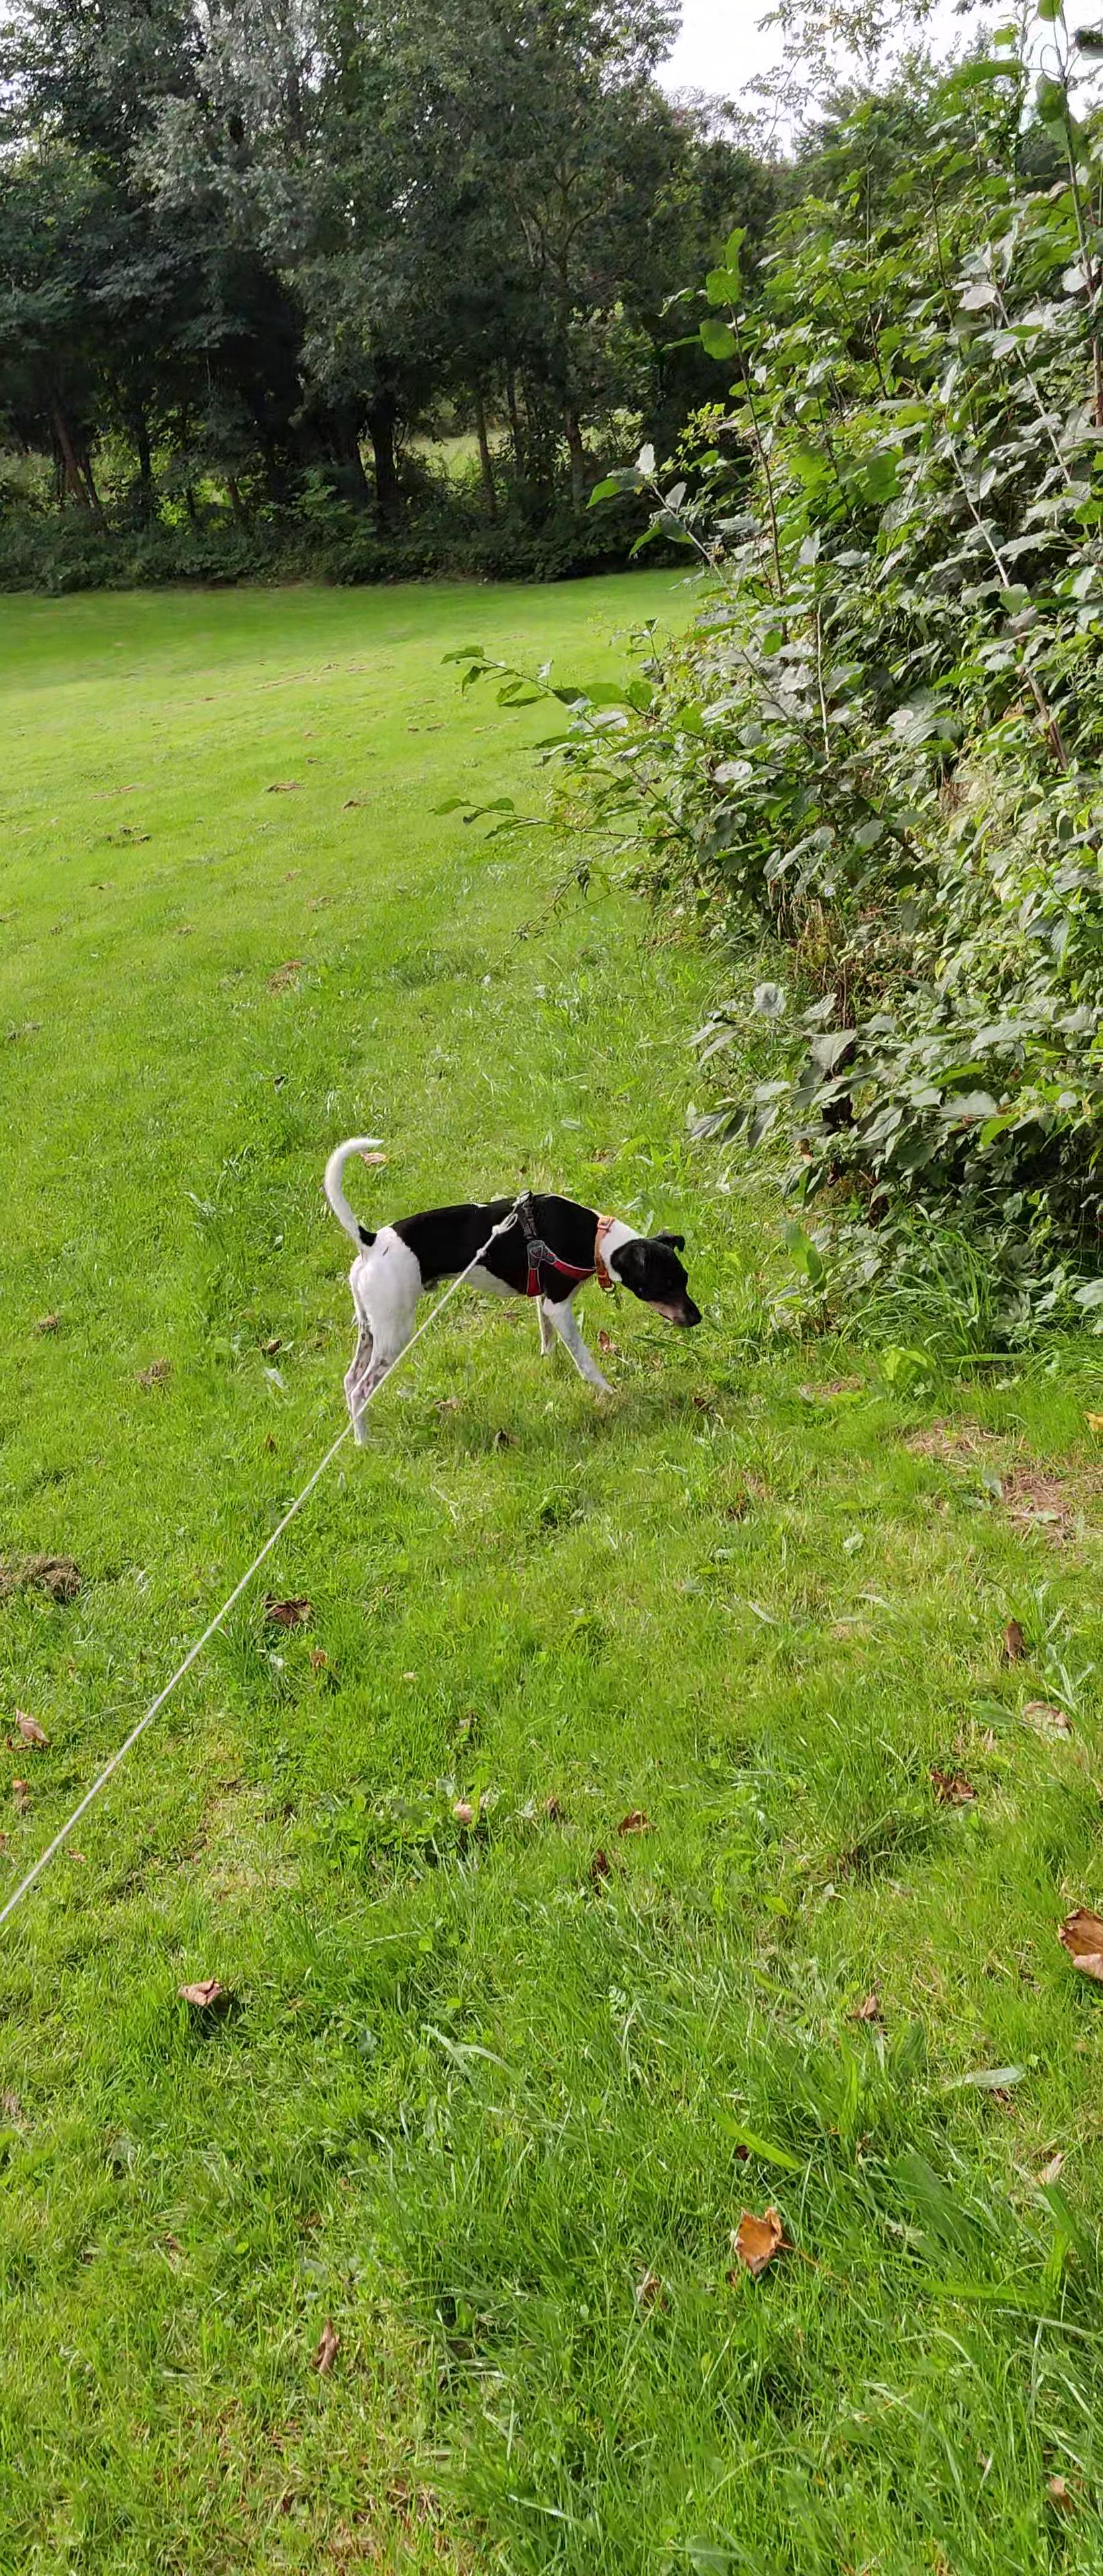Dog: (307, 1112, 725, 1456)
